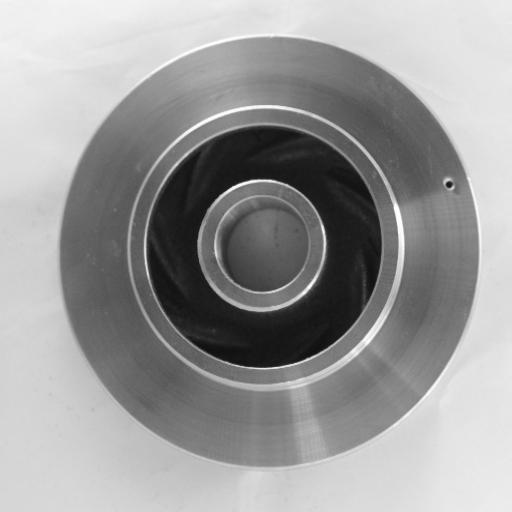pit: (434, 169, 462, 197)
unpolished_casting: (55, 34, 481, 472)
